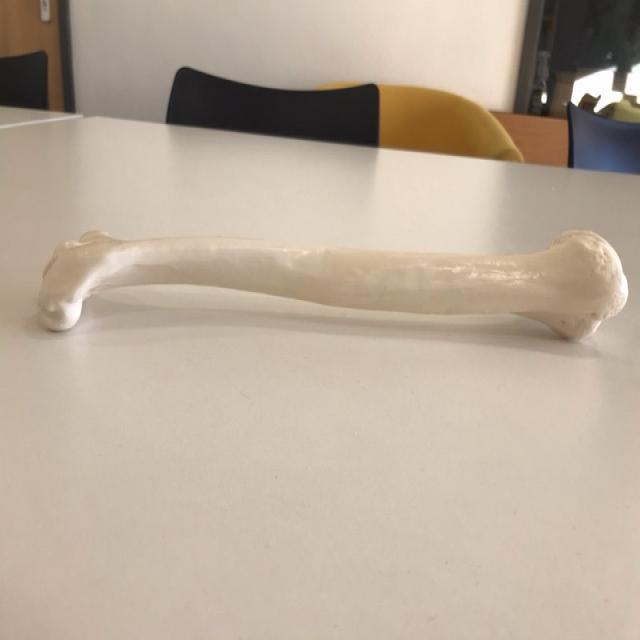bone: (33, 225, 632, 348)
